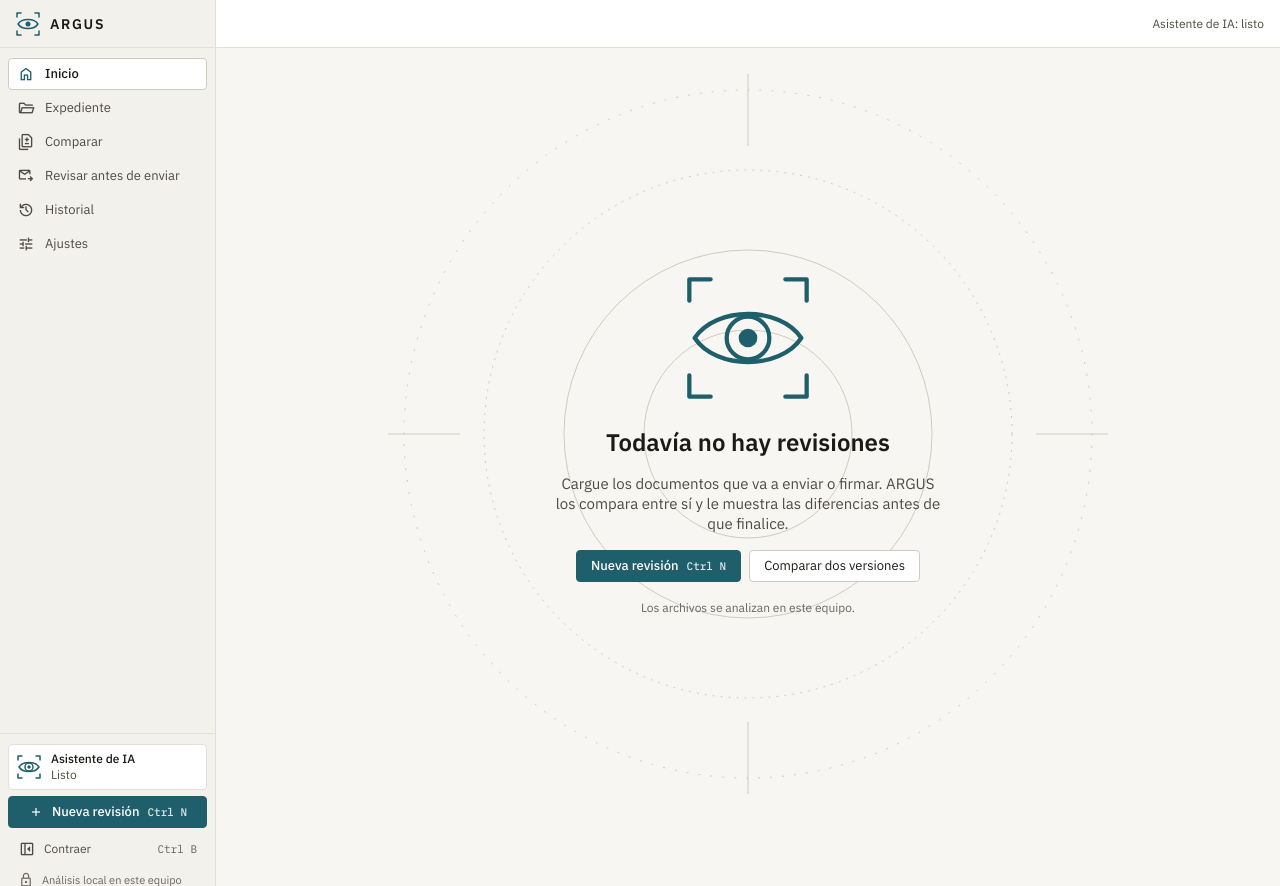
Test: Ajustes > OCR › dice que el OCR local está listo y Document AI viene apagado
Click the button "Ajustes". click: (108, 244)
box: [8,228,207,260]
(page scrolled)
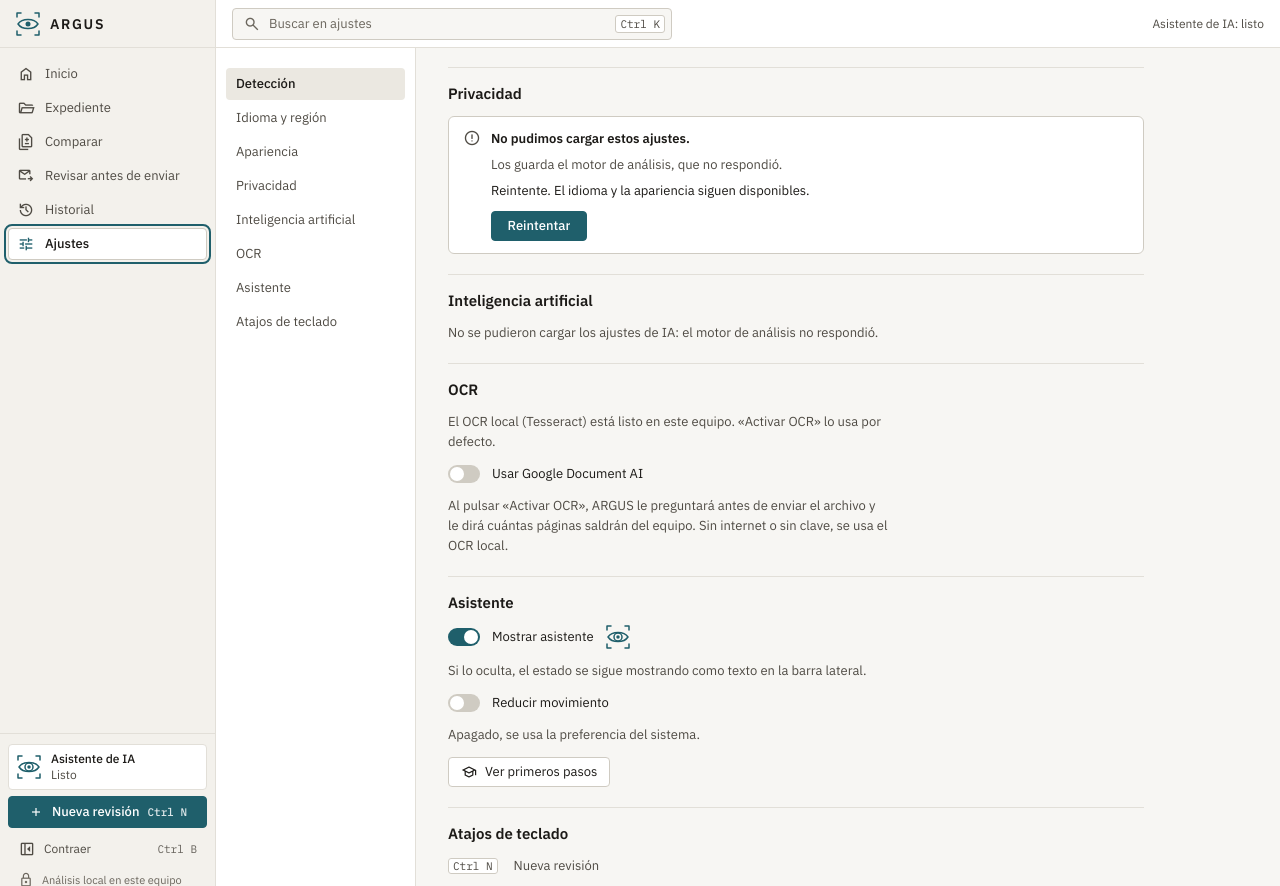
Expected: the field labelled "Procesador OCR" is not shown
Expected: the text "El OCR local (Tesseract) está listo" is shown, [448,413,881,450]
Expected: the switch labelled "Usar Google Document AI" is not checked
Click the switch labelled "Usar Google Document AI". click: (464, 474)
box: [448,464,1144,484]
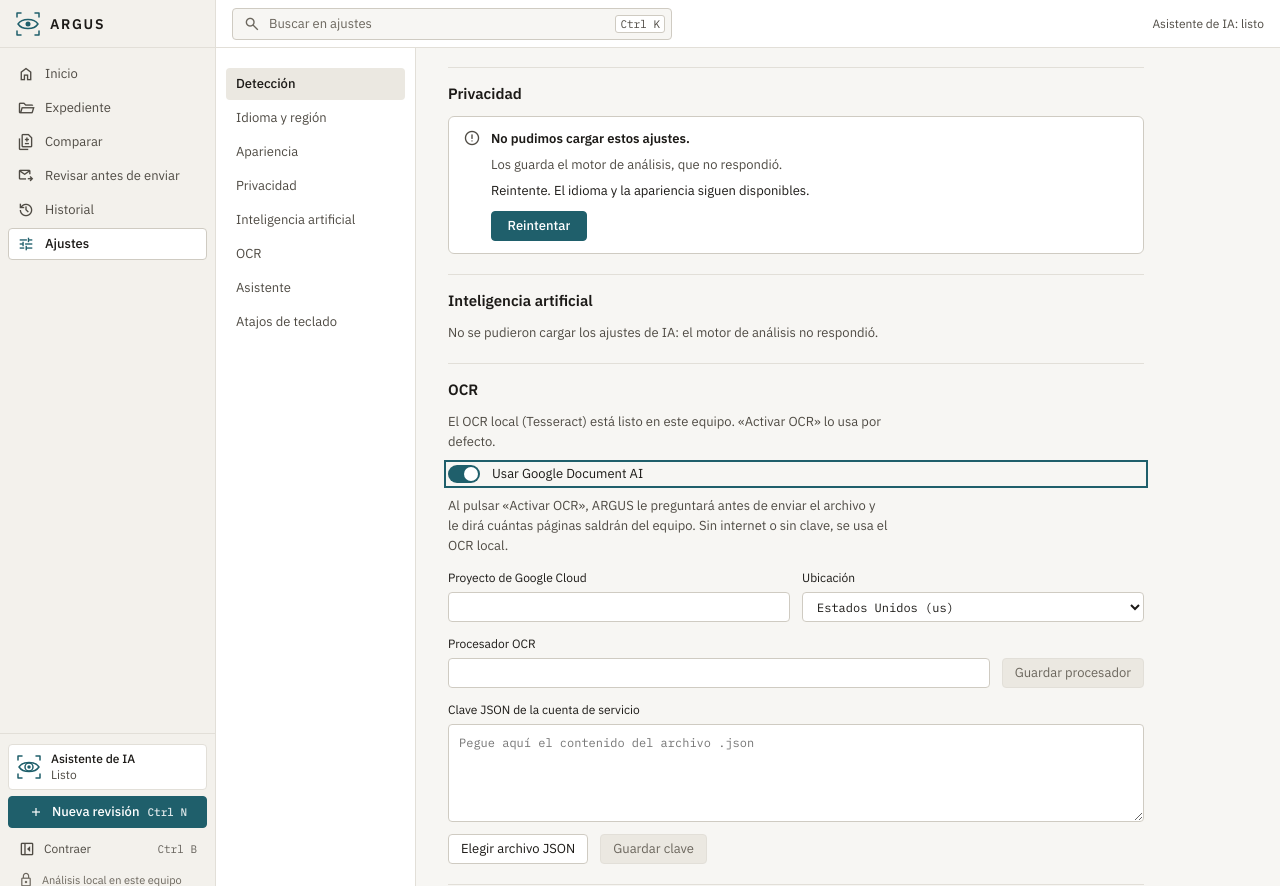
Expected: the field labelled "Procesador OCR" is shown, [448,658,990,688]
